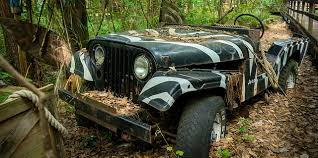Vehicle: (55, 13, 312, 139)
